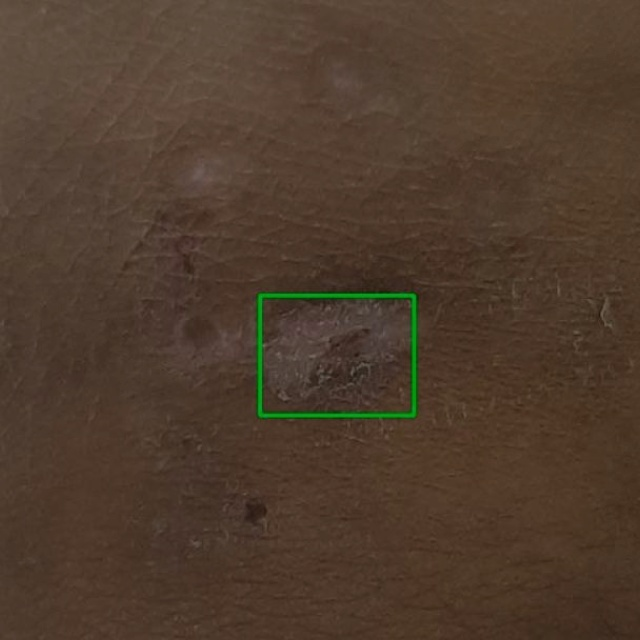Eczema: (259, 295, 413, 415)
